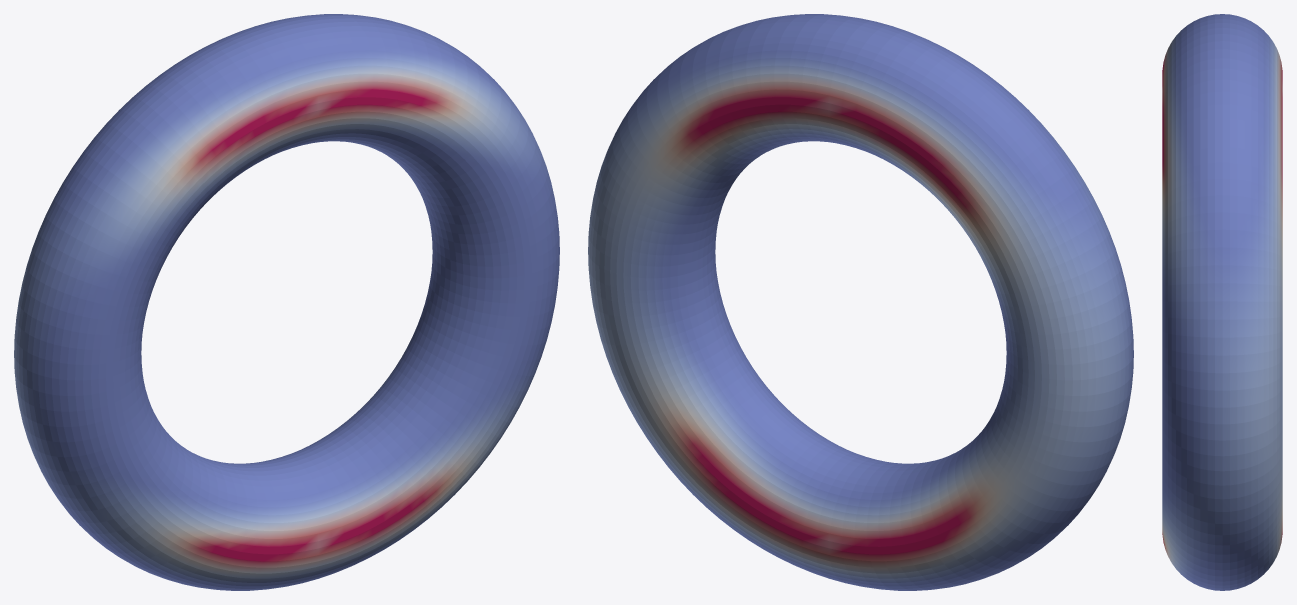
The picture shows the model from 3 angles, left to right: view 1: azimuth 30°, elevation 25°; view 2: azimuth 150°, elevation 25°; view 3: azimuth 270°, elevation 25°; orthographic projection. The views are drawn at different scales.
Visible parts, largest first — view 1: world; view 2: world; view 3: world.
Boxes of the visible parts, box(x1,y1,x2,y2) form: world: box(14, 14, 559, 590); world: box(588, 14, 1133, 590); world: box(1162, 14, 1282, 590).
Size of the model in its own units: 18.53 by 18.53 by 3.86.
